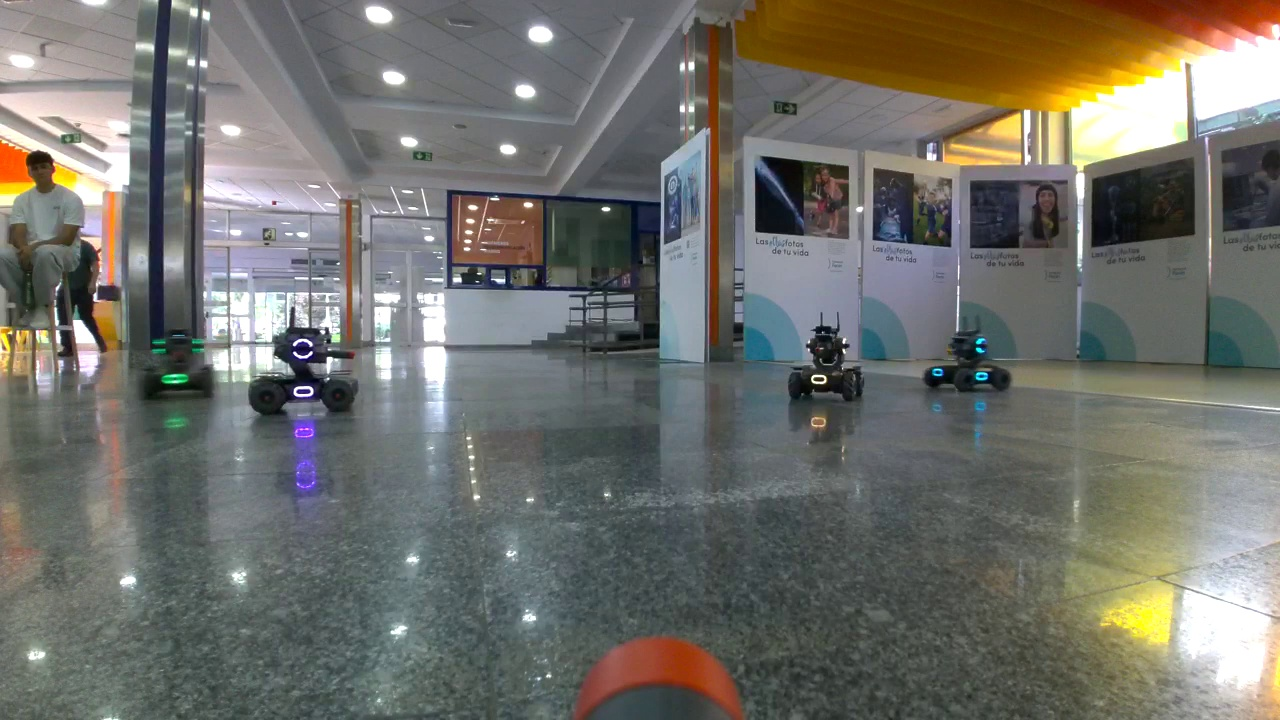robot: (248, 305, 360, 410), (922, 311, 1016, 395), (789, 312, 865, 405), (141, 324, 218, 401)
